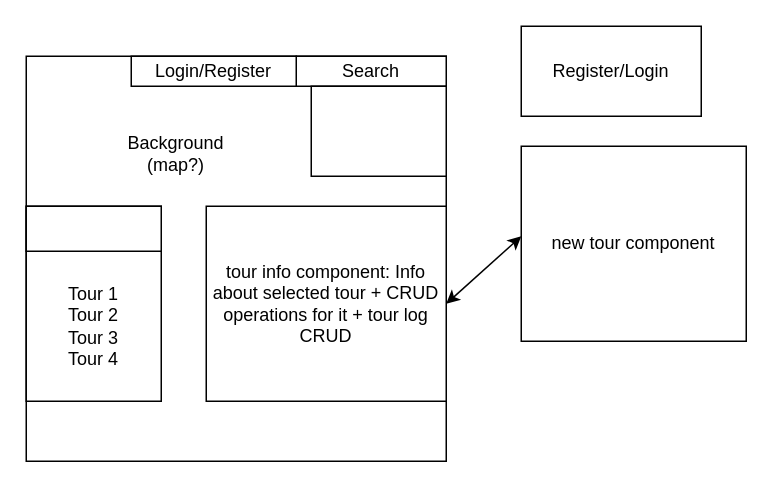
The diagram is 773 pixels wide and 488 high, and some of its shapes have lost their labels. The box of each missing label's shape, as (x1, y1, x2, y2) in pixels:
Add tour: (25, 205, 161, 251)
Tour 1 Tour 2 Tour log 1 Tour log 2: (310, 85, 446, 176)
